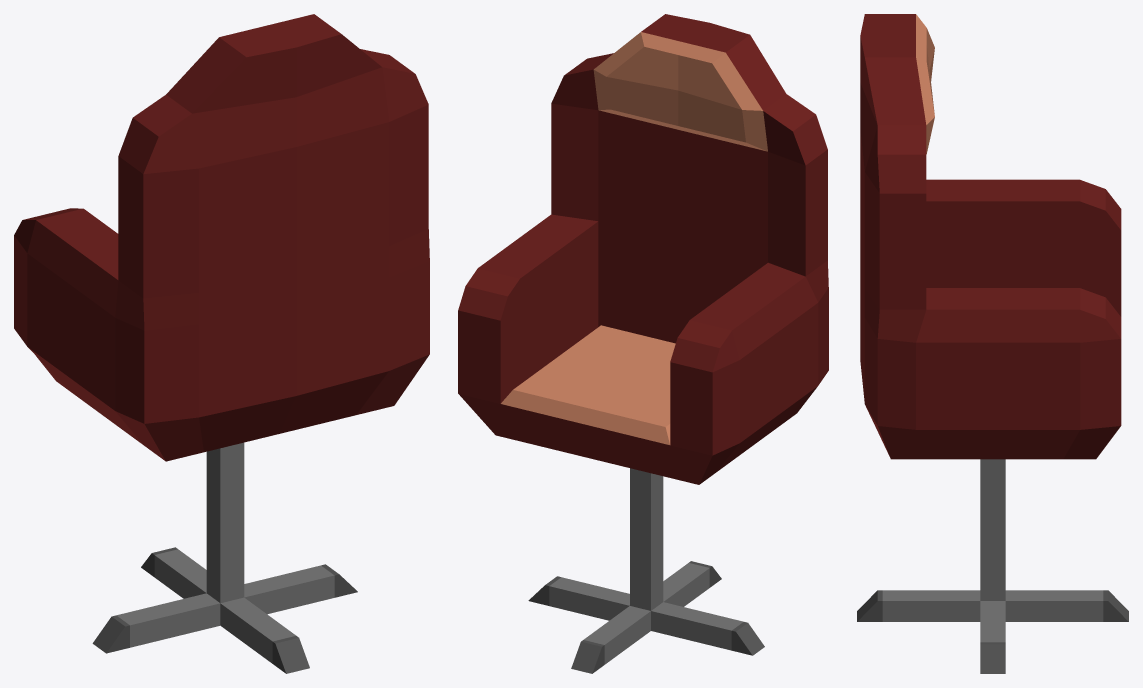
Rendered from Boss Chair.fbx.
3 views of the same model, side by side, from view 1: azimuth 30°, elevation 25°; view 2: azimuth 150°, elevation 25°; view 3: azimuth 270°, elevation 25° (orthographic). The views are drawn at different scales.
Visible parts, largest first — view 1: Boss Chair, Chair Stand; view 2: Boss Chair, Chair Stand; view 3: Boss Chair, Chair Stand.
Part boxes in pixels (x1,y1,x2,y2): Boss Chair: (14,14,429,461); Chair Stand: (92,442,357,673); Boss Chair: (458,14,828,484); Chair Stand: (528,468,764,673); Boss Chair: (860,14,1121,459); Chair Stand: (857,459,1128,673).
Size of the model in its own units: 6.37 by 12.5 by 5.3.
